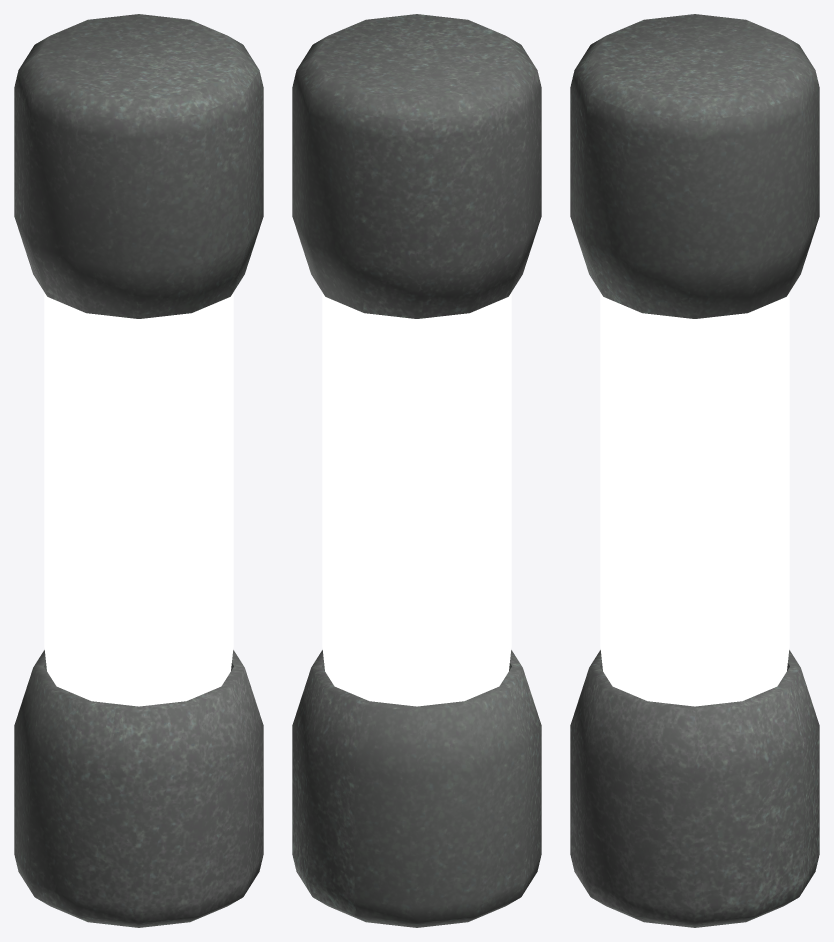
File: fuse.glb
3 renders of one model, left to right at view 1: azimuth 30°, elevation 25°; view 2: azimuth 150°, elevation 25°; view 3: azimuth 270°, elevation 25°, orthographic.
Parts seen in each view (by area): view 1: Object_2; view 2: Object_2; view 3: Object_2.
Part boxes in pixels (left/top/right/bottom): Object_2: left=14, top=14, right=263, bottom=927; Object_2: left=292, top=14, right=541, bottom=927; Object_2: left=570, top=14, right=819, bottom=927.
Bounding box in the file's own units: 0.0818 × 0.2997 × 0.0818.
1 material, 1 textured.
